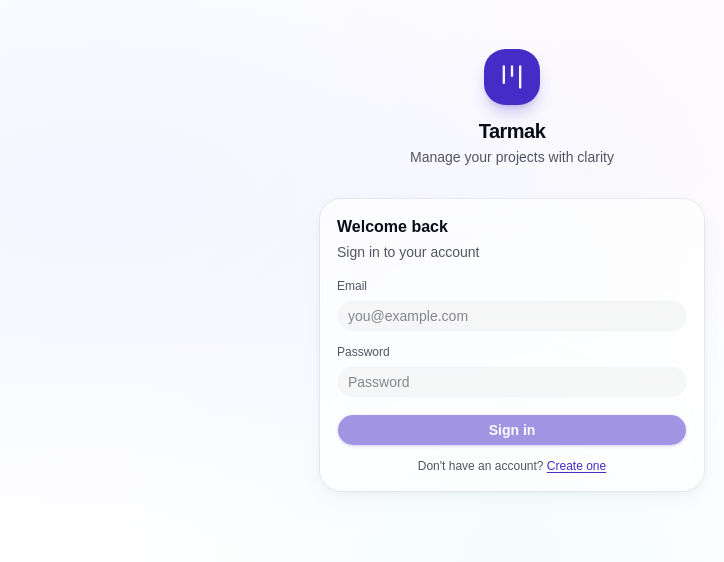
LoginPage › toggles to register form
Click the button "Create one" at (576, 466), box [547, 458, 606, 474]
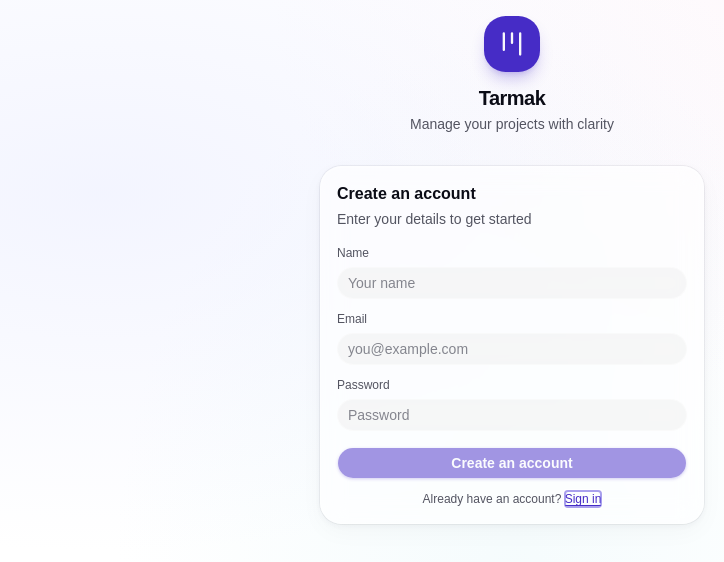
Now the text "Create an account" is shown, box [337, 185, 476, 202]
Now the field labelled "Name" is shown, box [337, 267, 687, 299]
Now the button "Create an account" is shown, box [337, 447, 687, 479]
